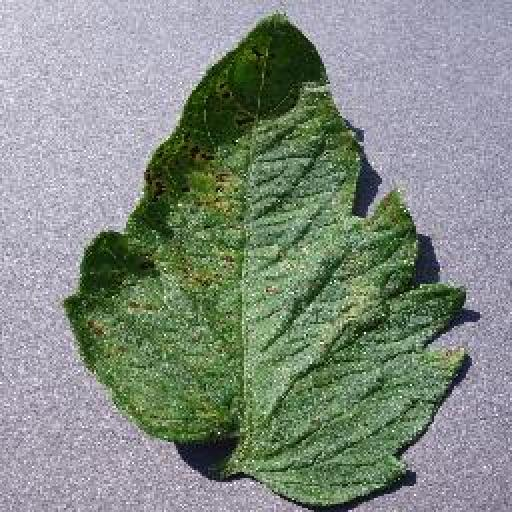disease_tomato: (60, 12, 467, 512)
